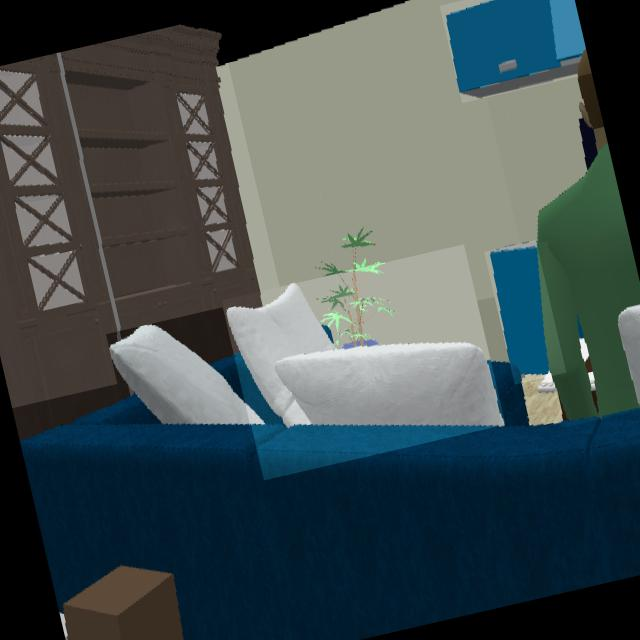bookshelf: (0, 23, 263, 441)
cabinet: (446, 0, 586, 98), (489, 243, 550, 377)
person: (537, 48, 640, 423)
pillow: (226, 285, 505, 428), (110, 326, 263, 424), (618, 305, 640, 406)
sofa: (20, 357, 640, 640)
